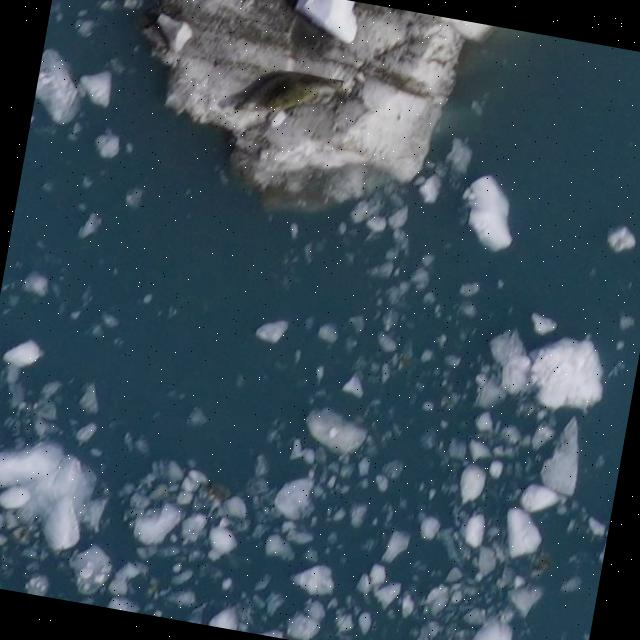seal: (226, 60, 348, 122)
